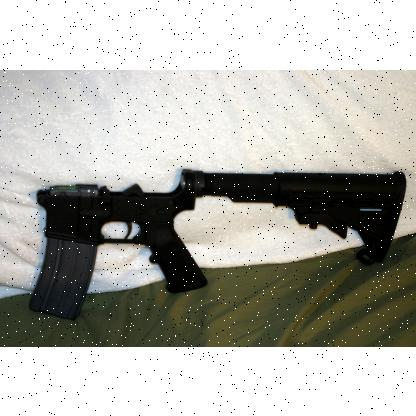gun: (28, 167, 406, 319)
